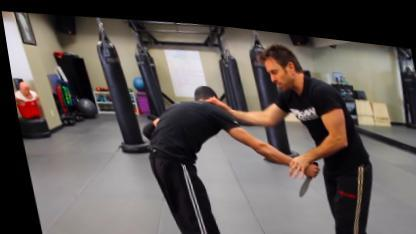knife: (285, 149, 320, 194)
